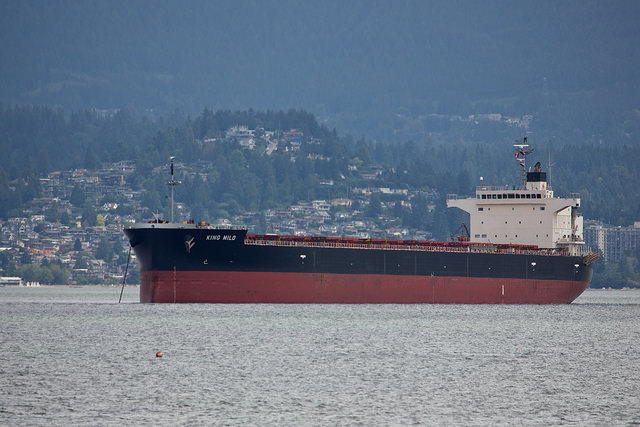bulk carrier: (125, 137, 597, 304)
